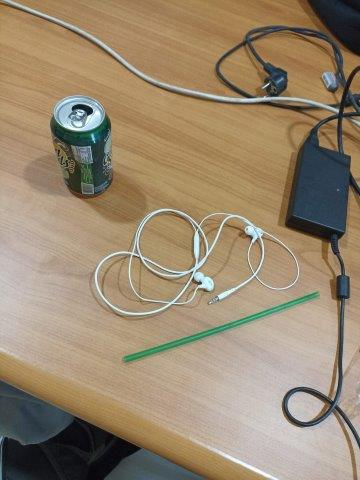kaleng: (50, 94, 113, 199)
